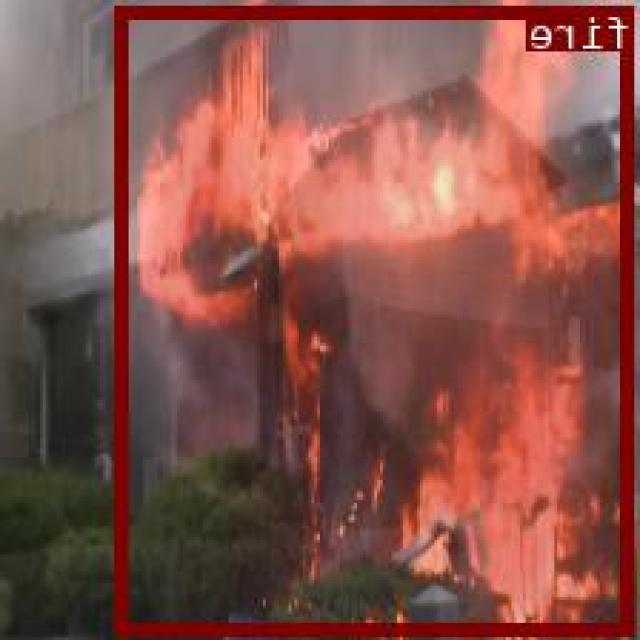fire: (118, 3, 635, 633)
